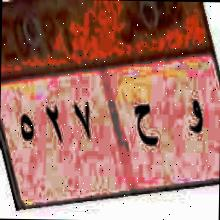2: (42, 92, 64, 152)
5: (18, 106, 36, 152)
7: (72, 90, 94, 149)
7aa: (130, 92, 160, 156)
waw: (182, 92, 206, 146)
